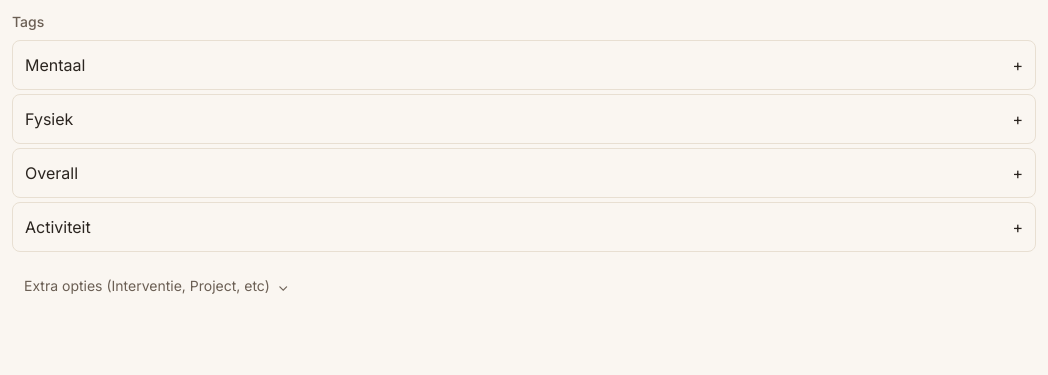
Test: <TagCategoryList /> › renders a "+ nieuw" chip at the end of every expanded category row
This screenshot has width=1048, height=375.
Click the button "mentaal +": (55, 65) [12,40,1036,90]
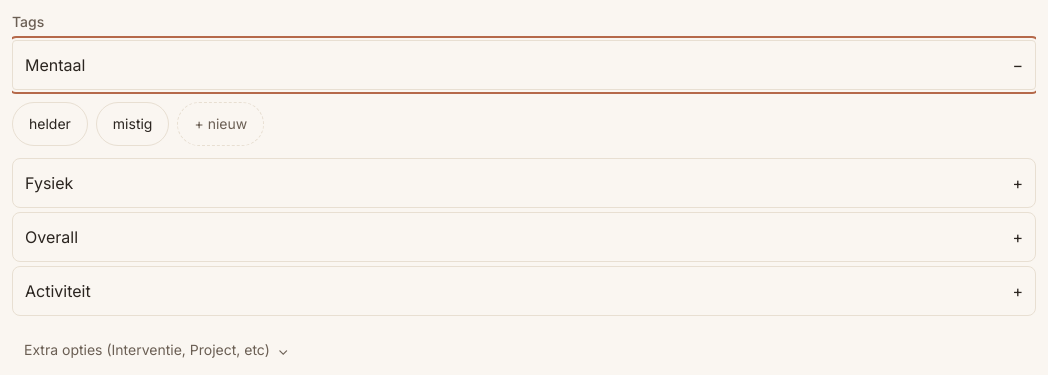
expect the button with aria-label "voeg tag toe aan mentaal" is shown: met, box [178,102,264,146]
